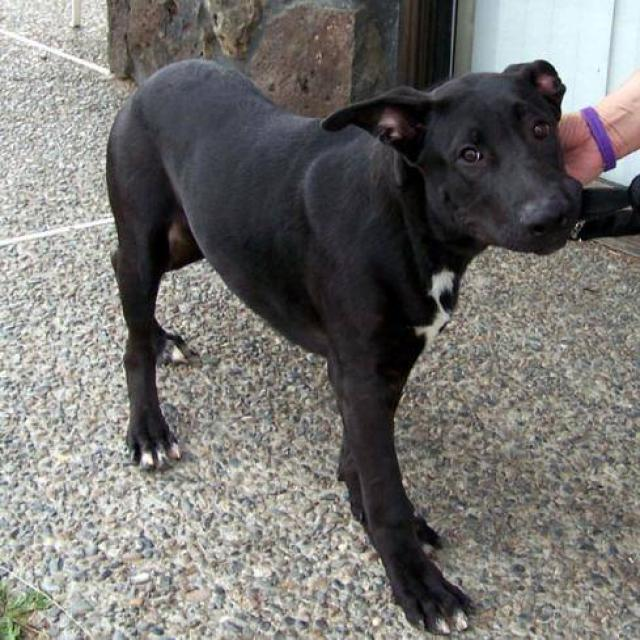dog: (102, 54, 639, 636)
